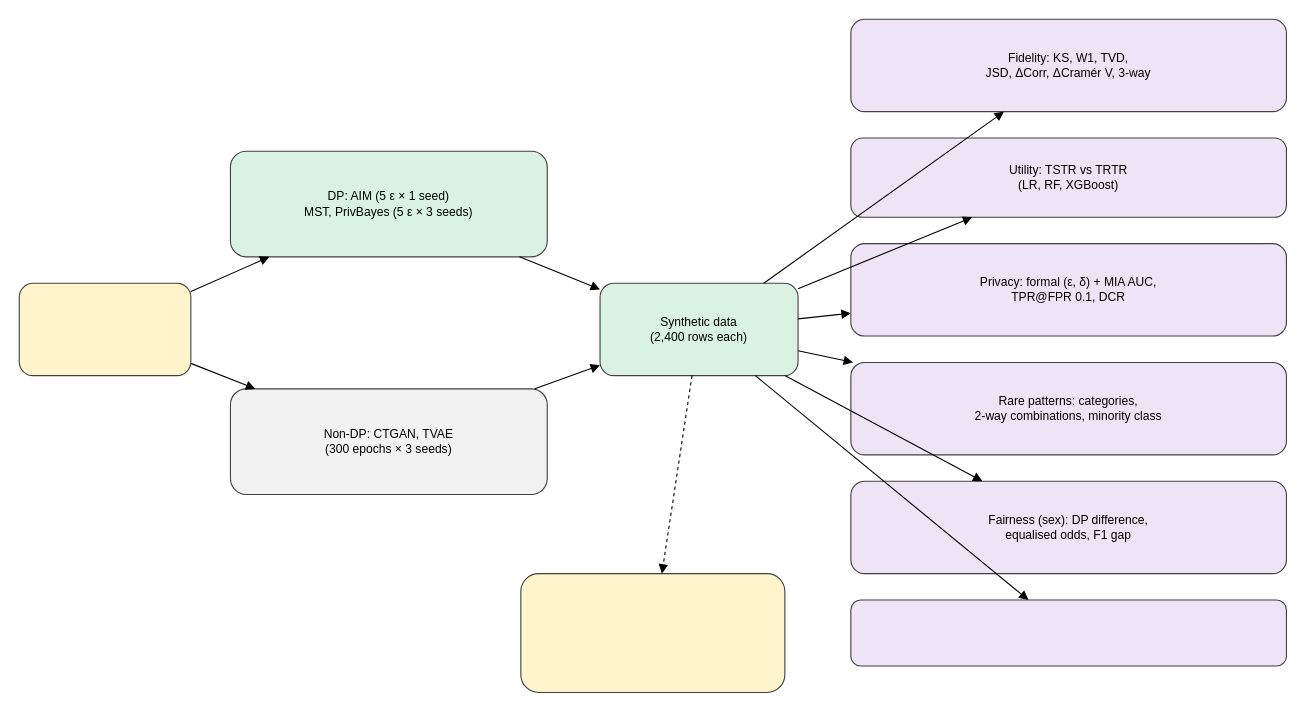
Some shapes in this 1306 by 712 pixel diagram are drawn without their labels. The shapes that lost their labels are listed below. From the top down, each one's centre as x and y in pixels, then its label:
At (x=104, y=329): "SweepConfig 41 runs".
At (x=652, y=632): "verify_results.py: de-dup, re-evaluate, aggregate".
At (x=1068, y=632): "Runtime: fit / generate".
